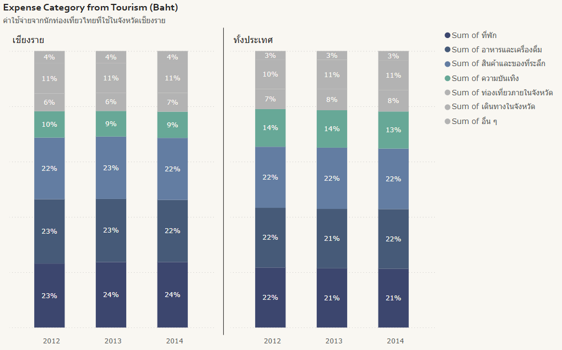

Layout of this report page (visuals, bound fields, positions):
{"tool":"powerbi","page":{"name":"Expense","canvas":[1280,720],"ordinal":3},"visuals":[{"type":"hundredPercentStackedColumnChart","title":"Expense Category from Tourism (Baht)","fields":{"Y":["Sum(Spending.1. ค่าที่พัก)","Sum(Spending.2. ค่าอาหารและเครื่องดื่ม)","Sum(Spending.3. ค่าซื้อสินค้าและของที่ระลึก)","Sum(Spending.4. ค่าใช้จ่ายเพื่อความบันเทิง)","Sum(Spending.5. ค่าบริการท่องเที่ยวภายในจังหวัด)","Sum(Spending.6. ค่าพาหนะเดินทางในจังหวัด)","Sum(Spending.7. ค่าใช้จ่ายอื่น ๆ)"],"Category":["Spending.Years.Variation.Date Hierarchy.Year","Spending.Years.Variation.Date Hierarchy.Quarter","Spending.Years.Variation.Date Hierarchy.Month","Spending.Years.Variation.Date Hierarchy.Day"],"Rows":["Spending.จังหวัด"]},"box":[204.3,62.2,991.1,619.6],"z":0}]}

Visuals, with their boxes on the page's 1280x720 design canvas (x1, y1, x2, y2). These are canvas units, not pixel positions in the 562x350 screenshot, which may show the page scaled, cropped or inside an application window:
"Expense Category from Tourism (Baht)" hundredPercentStackedColumnChart: {"left": 204, "top": 62, "right": 1195, "bottom": 682}
